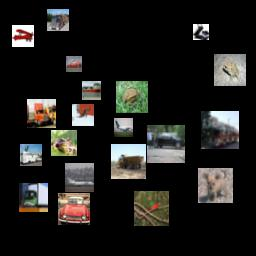airplane: (65, 163, 94, 192), (12, 25, 34, 47), (114, 118, 133, 137)
automobile: (147, 125, 185, 163), (58, 193, 90, 225), (66, 56, 82, 72)
bird: (134, 191, 169, 226)
cat: (72, 104, 94, 126)
dog: (198, 168, 233, 203)
frog: (214, 54, 246, 86), (116, 81, 148, 113), (51, 130, 77, 156)
ship: (82, 81, 101, 100)
truck: (201, 111, 239, 149), (111, 144, 146, 179), (19, 183, 48, 212), (27, 99, 56, 128), (47, 9, 69, 31), (20, 144, 42, 166), (193, 24, 209, 40)
